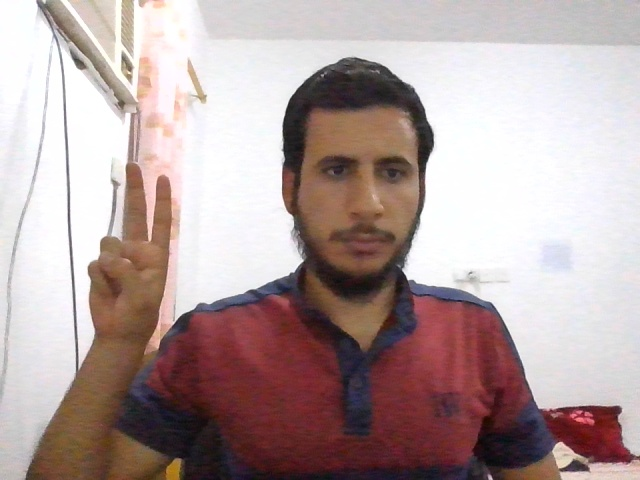Two: (87, 161, 171, 340)
